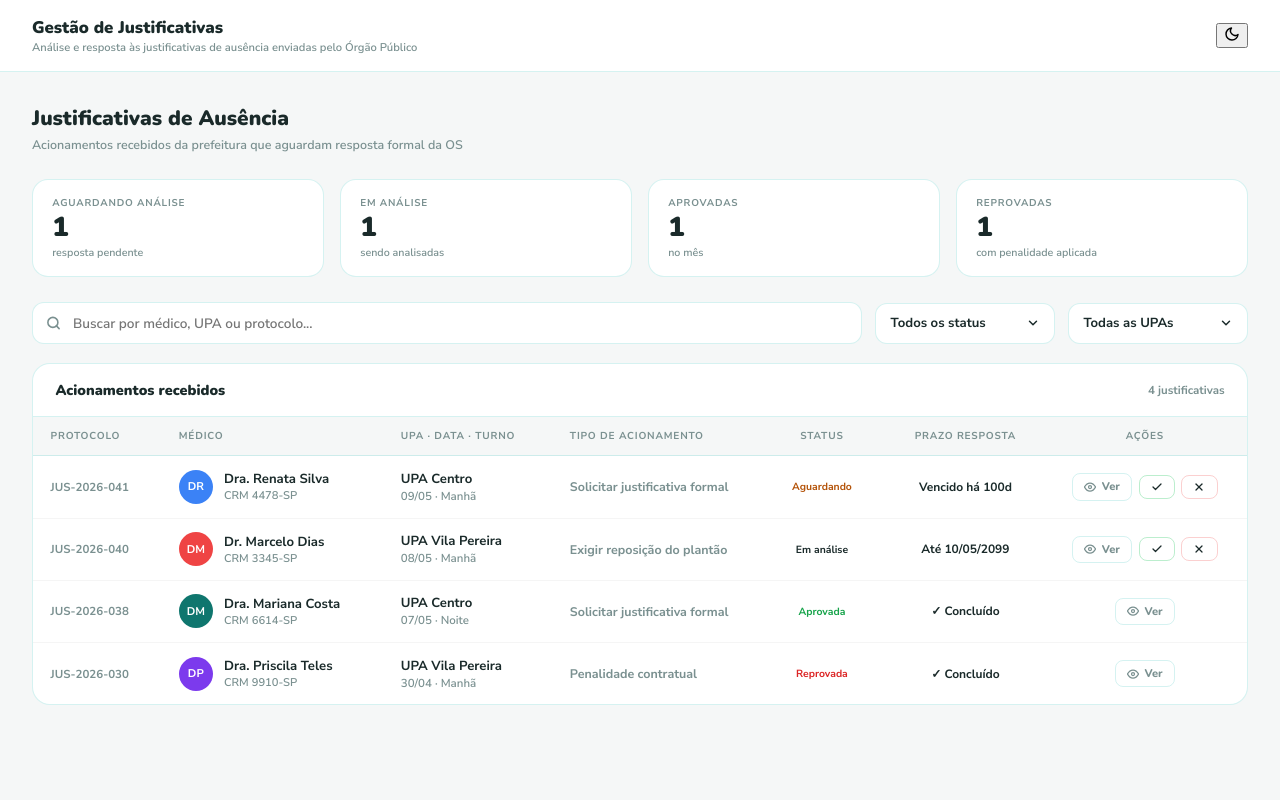
<AdminJustificativas /> › filtra por protocolo
This screenshot has width=1280, height=800.
Check: the text "JUS-2026-041" is shown, box x1=51 y1=479 x2=129 y2=495
Type "JUS-2026-038" into the field with placeholder "Buscar por médico, UPA ou protocolo..." at (447, 323), box x1=32 y1=302 x2=862 y2=344
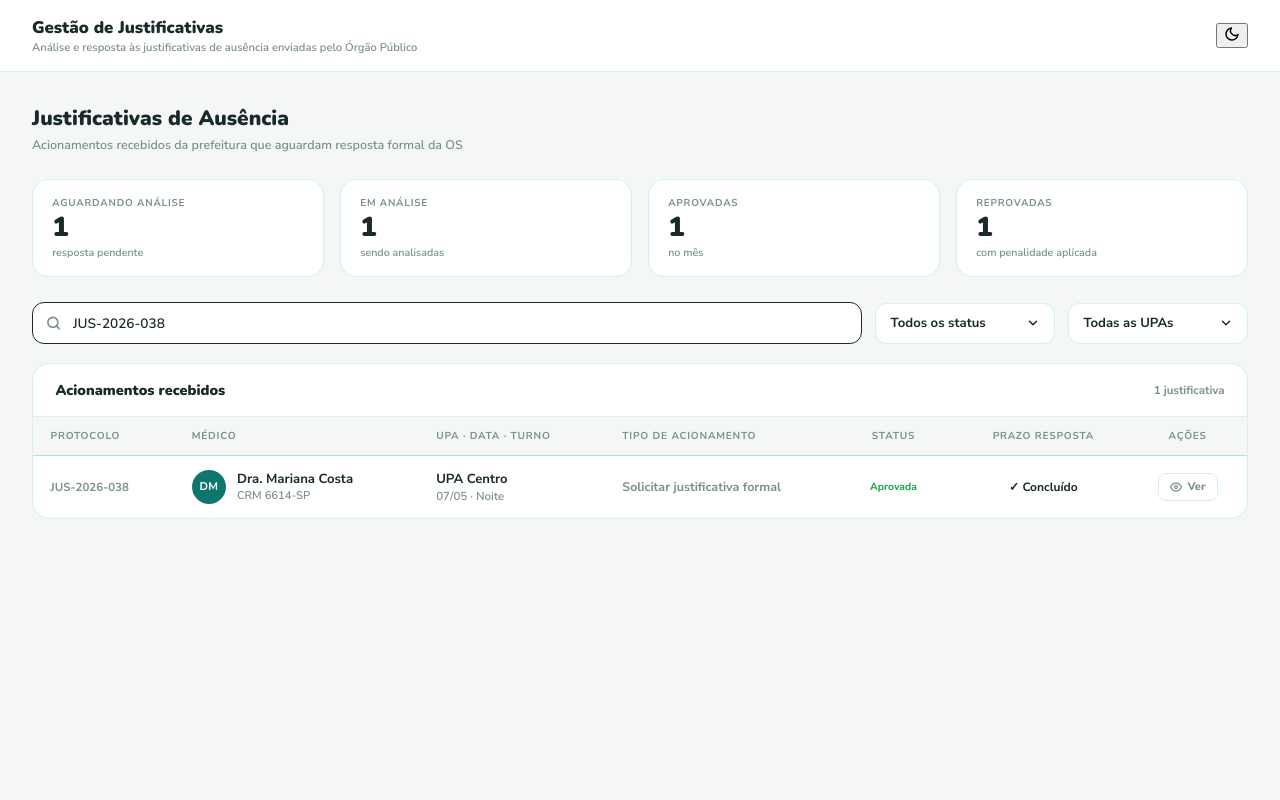
Check: the table shows "JUS-2026-038", box x1=51 y1=479 x2=129 y2=495
Check: the text "JUS-2026-041" is gone
